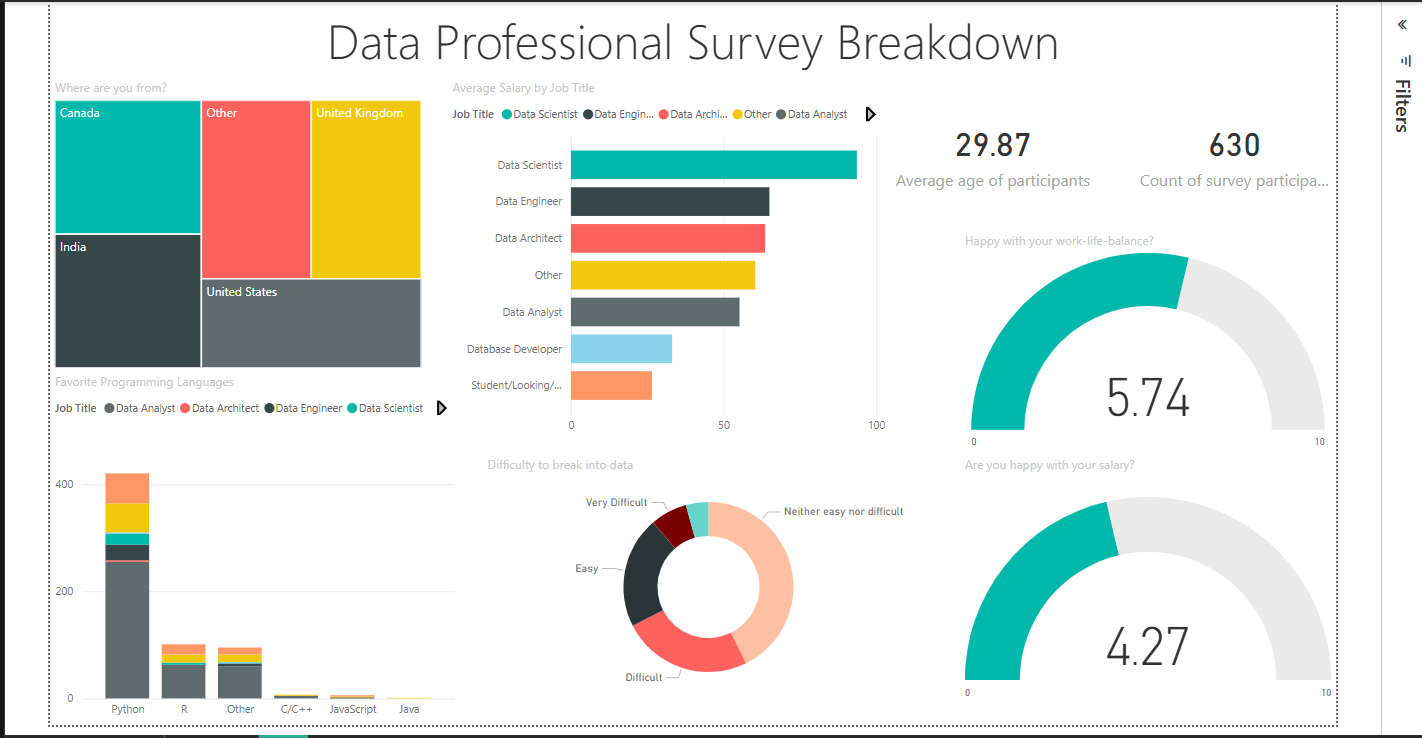

This screenshot's page, from the dashboard's own definition file:
{"tool":"powerbi","page":{"name":"Page 1","canvas":[1280,720],"ordinal":0},"visuals":[{"type":"textbox","box":[10,0,280,280],"z":0},{"type":"textbox","box":[0,0,1280.3,76.8],"z":1000},{"type":"card","fields":{"Values":["CountNonNull(Data Professional Survey.Unique ID)"]},"box":[1077.2,76.8,203.1,146.8],"z":2000},{"type":"card","fields":{"Values":["Avg(Data Professional Survey.Q10 - Current Age)"]},"box":[800,76.8,277.2,146.8],"z":3000},{"type":"barChart","title":"Average Salary by Job Title","fields":{"Category":["Data Professional Survey.Q1 - Which Title Best Fits your Current Role?.1"],"Y":["Avg(Data Professional Survey.Average Salary)"],"Series":["Data Professional Survey.Q1 - Which Title Best Fits your Current Role?.1"]},"box":[395.2,76.8,440.5,360.9],"z":4000},{"type":"columnChart","title":"Favorite Programming Languages","fields":{"Category":["Data Professional Survey.Q5 - Favorite Programming Language.1"],"Y":["CountNonNull(Data Professional Survey.Unique ID)"],"Series":["Data Professional Survey.Q1 - Which Title Best Fits your Current Role?.1"]},"box":[0,369.1,407.5,351.3],"z":5000},{"type":"treemap","title":"Where are you from?","fields":{"Values":["Count(Data Professional Survey.Q11 - Which Country do you live in?.1)"],"Group":["Data Professional Survey.Q11 - Which Country do you live in?.1"]},"box":[0,76.8,374.6,292.3],"z":6000},{"type":"gauge","title":"Happy with your work-life-balance?","fields":{"Y":["Avg(Data Professional Survey.Q6 - How Happy are you in your Current Position with the following? (Work/Life Balance))"],"MinValue":["Min(Data Professional Survey.Q6 - How Happy are you in your Current Position with the following? (Work/Life Balance))"],"MaxValue":["Max(Data Professional Survey.Q6 - How Happy are you in your Current Position with the following? (Work/Life Balance))1"]},"box":[905.7,229.2,374.6,222.3],"z":7000},{"type":"gauge","title":"Are you happy with your salary?","fields":{"Y":["Avg(Data Professional Survey.Q6 - How Happy are you in your Current Position with the following? (Salary))"],"MinValue":["Min(Data Professional Survey.Q6 - How Happy are you in your Current Position with the following? (Salary))"],"MaxValue":["Max(Data Professional Survey.Q6 - How Happy are you in your Current Position with the following? (Salary))"]},"box":[905.7,451.5,374.6,269],"z":8000},{"type":"donutChart","title":"Difficulty to break into data","fields":{"Category":["Data Professional Survey.Q7 - How difficult was it for you to break into Data?"],"Y":["CountNonNull(Data Professional Survey.Q7 - How difficult was it for you to break into Data?)"]},"box":[430.9,451.5,450.1,245.6],"z":9000}]}

Visuals, with their boxes on the page's 1280x720 design canvas (x1, y1, x2, y2). These are canvas units, not pixel positions in the 1422x738 screenshot, which may show the page scaled, cropped or inside an application window:
textbox: BBox(10, 0, 290, 280)
textbox: BBox(0, 0, 1280, 77)
card - CountNonNull(Data Professional Survey.Unique ID): BBox(1077, 77, 1280, 224)
card - Avg(Data Professional Survey.Q10 - Current Age): BBox(800, 77, 1077, 224)
"Average Salary by Job Title" barChart: BBox(395, 77, 836, 438)
"Favorite Programming Languages" columnChart: BBox(0, 369, 408, 720)
"Where are you from?" treemap: BBox(0, 77, 375, 369)
"Happy with your work-life-balance?" gauge: BBox(906, 229, 1280, 452)
"Are you happy with your salary?" gauge: BBox(906, 452, 1280, 720)
"Difficulty to break into data" donutChart: BBox(431, 452, 881, 697)
